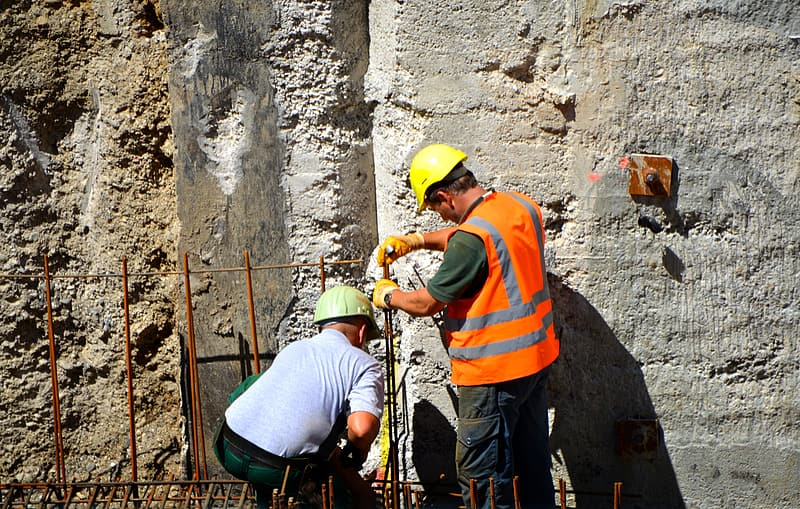Hard Hat: (402, 148, 484, 223), (310, 287, 382, 352)
Person: (380, 142, 559, 509), (213, 288, 374, 506)
Vest: (410, 172, 557, 389)
